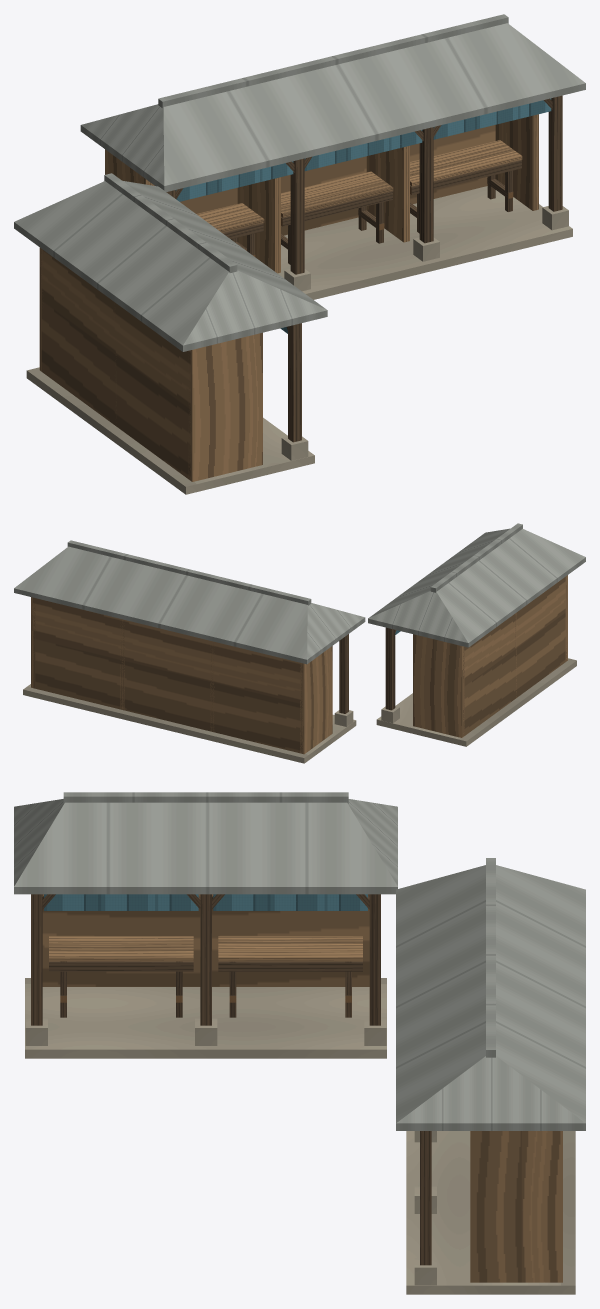
File: lilongwe.glb
3 views of the same model, one above another, from view 1: azimuth 30°, elevation 25°; view 2: azimuth 150°, elevation 25°; view 3: azimuth 270°, elevation 25° (orthographic). The views are drawn at different scales.
Parts seen in each view (by area): view 1: lilongwe; view 2: lilongwe; view 3: lilongwe.
Part boxes in pixels (bbox=[...]): lilongwe: bbox=[14, 14, 585, 494]; lilongwe: bbox=[14, 523, 585, 763]; lilongwe: bbox=[14, 792, 585, 1294].
Size of the model in its own units: 7.4 by 2.49 by 5.65.
1 material, 1 textured.
